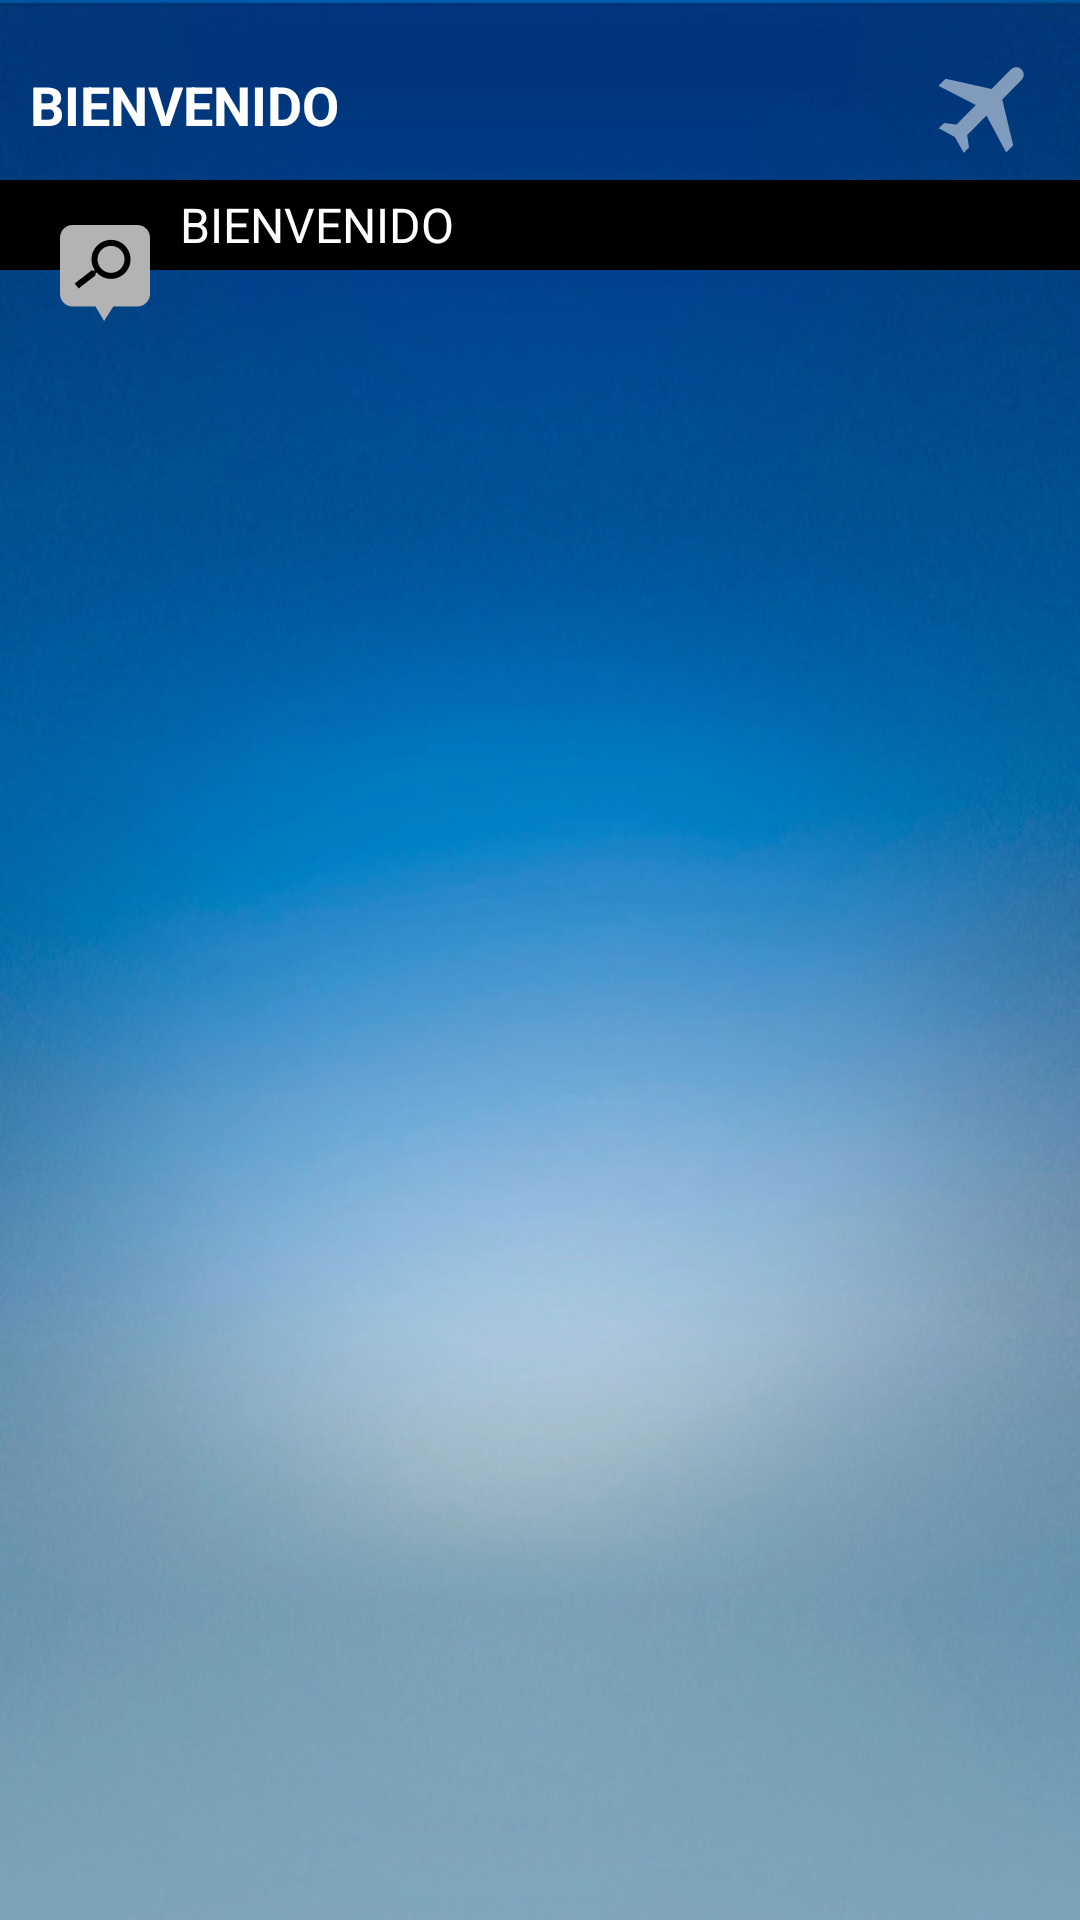

Icons on this 1080 × 1920 Android screen, each with the point to tap as (x=x, y=y):
find: (x=105, y=273)
